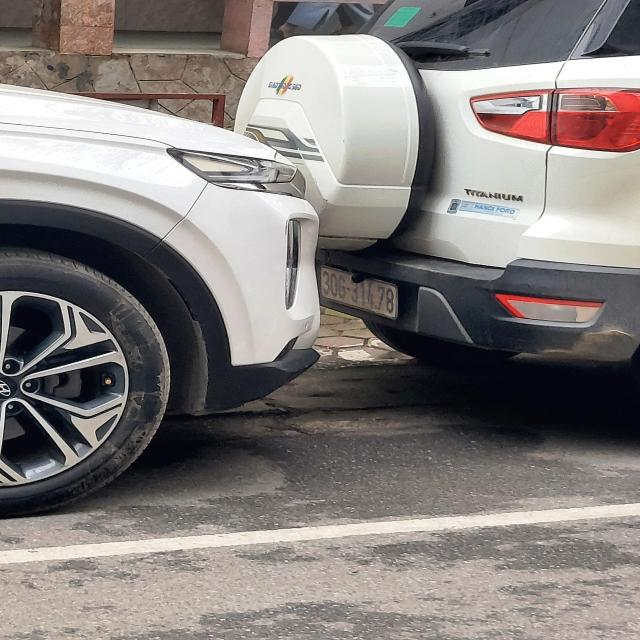license_plate: (321, 266, 396, 318)
